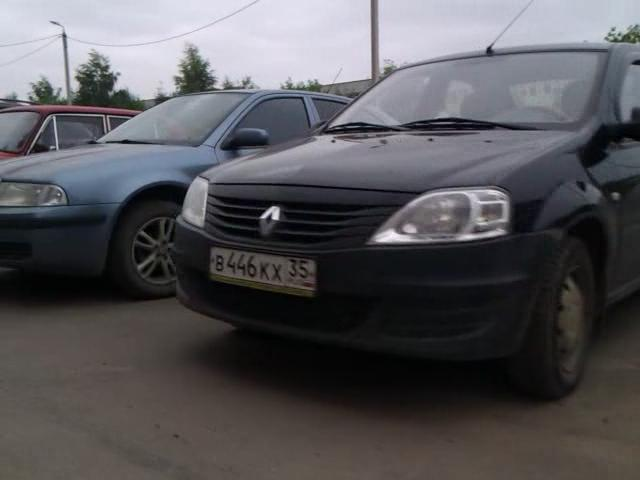car license plate: (210, 247, 318, 302)
